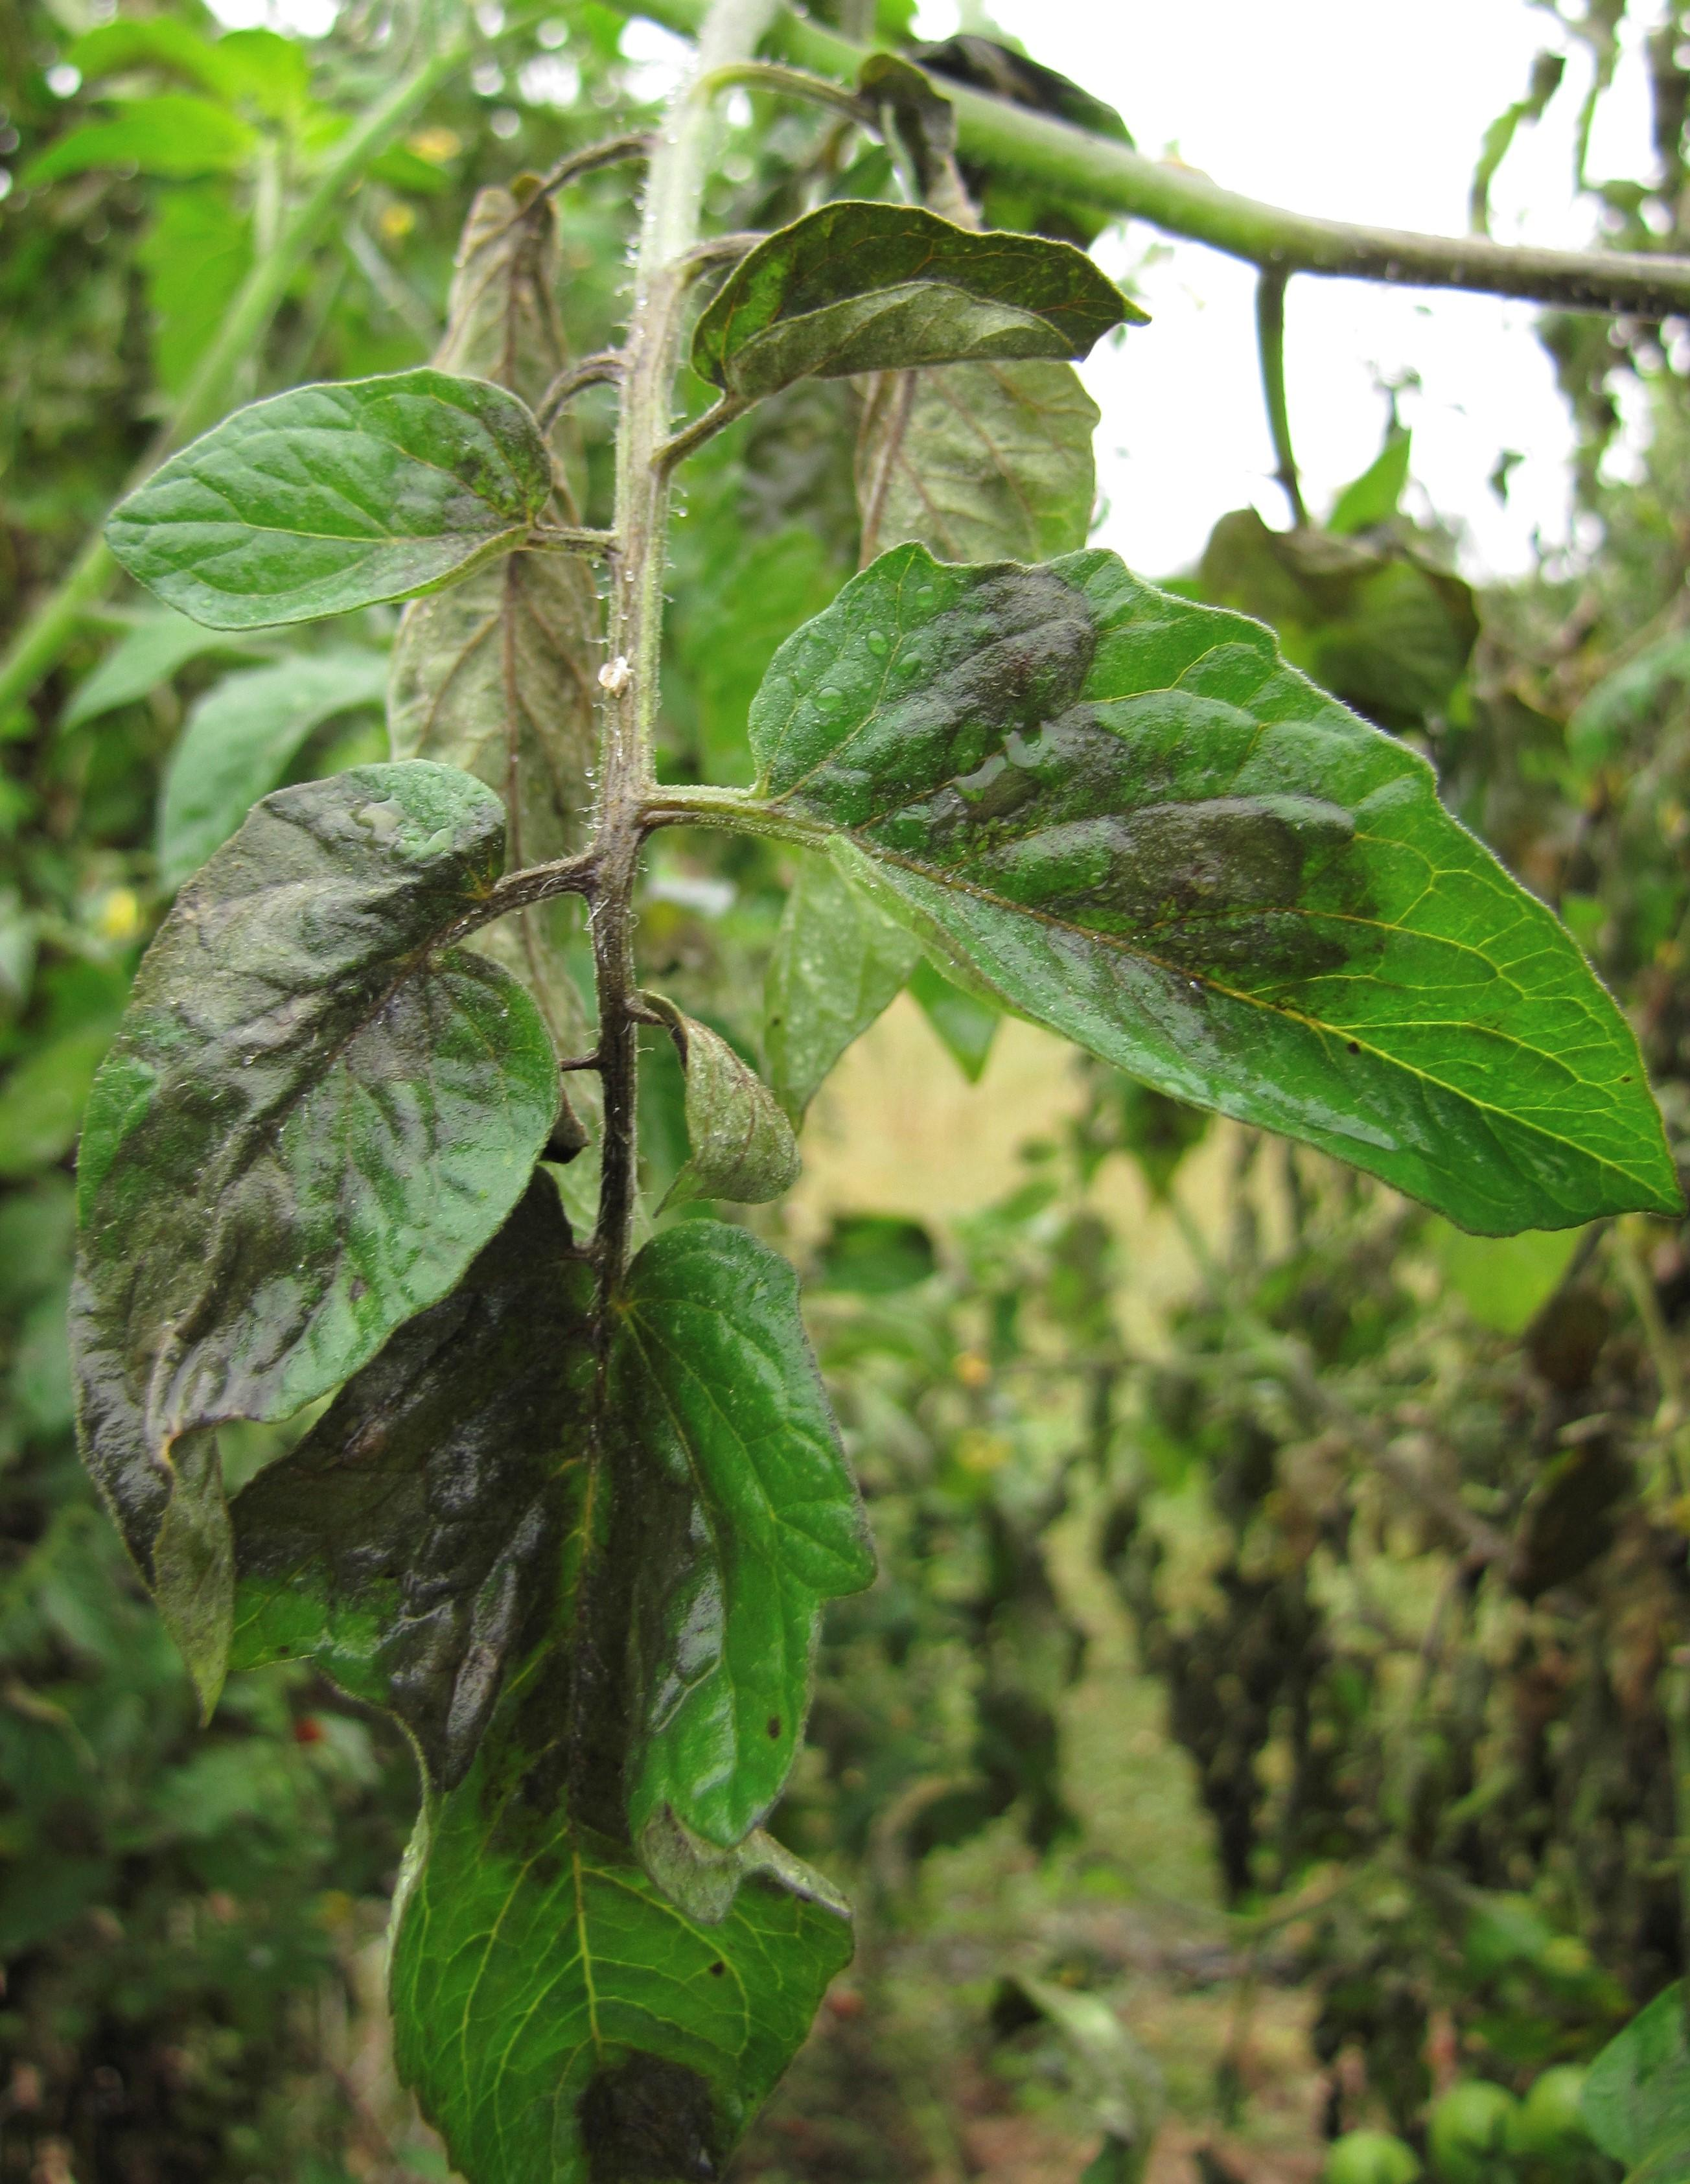Tomato leaf late blight: (743, 528, 1690, 1250), (255, 1188, 908, 2180), (7, 771, 583, 1677)
